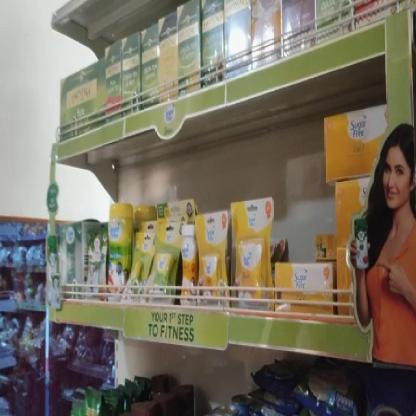SUGAR FREE GOLD 500 PELLET: (232, 202, 270, 313), (195, 215, 228, 300)
SUGAR FREE GOLD POWDER 100GM: (179, 227, 197, 310)
SUGAR FREE GOLD SACHET 50 SUGAR FREE GOLD SACHET 50: (322, 112, 384, 164), (274, 264, 329, 314)
SUGAR FREE GRN 300 PELLET: (82, 225, 110, 300)
SUGAR FREE NATURA 500 PELLET: (152, 227, 179, 305)
SUGAR FREE NATURA DIET SUGAR: (108, 204, 132, 302)
SUGAR FREE NATURA SWEET DROPS: (128, 232, 150, 302)
